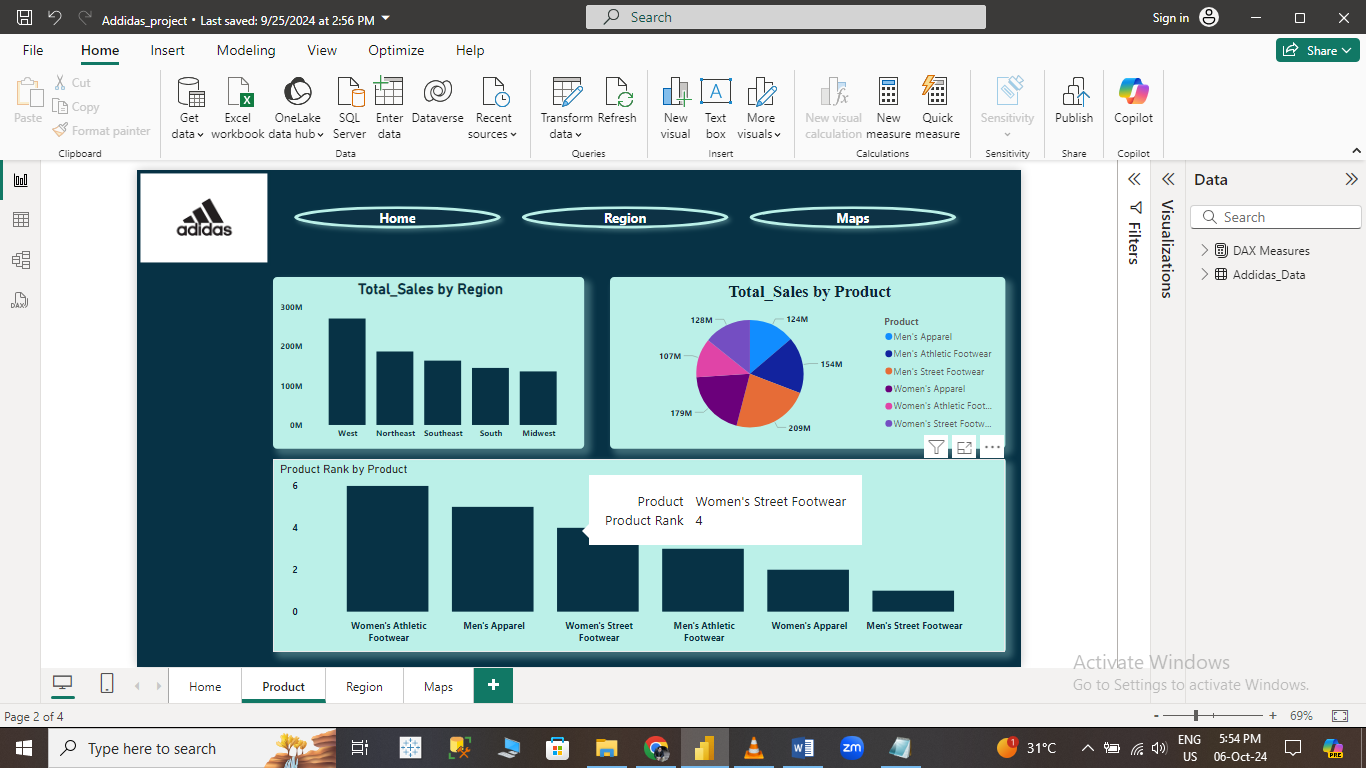

This screenshot's page, from the dashboard's own definition file:
{"tool":"powerbi","page":{"name":"Product","canvas":[1280,720],"ordinal":1},"visuals":[{"type":"image","box":[0,0,194.2,138.9],"z":0},{"type":"clusteredColumnChart","fields":{"Y":["DAX Measures.Total_Sales"],"Category":["Addidas_Data.Region"]},"box":[197,154.5,450.7,249.4],"z":1000},{"type":"pieChart","fields":{"Y":["DAX Measures.Total_Sales"],"Series":["Addidas_Data.Product"]},"box":[686,154.5,572.6,249.4],"z":2000},{"type":"pageNavigator","box":[216.9,42.5,980.8,53.9],"z":3000},{"type":"clusteredColumnChart","fields":{"Y":["DAX Measures.Product Rank"],"Category":["Addidas_Data.Product"]},"box":[197,419.5,1061.6,279.2],"z":4000}]}

Visuals, with their boxes on the page's 1280x720 design canvas (x1, y1, x2, y2). These are canvas units, not pixel positions in the 1366x768 screenshot, which may show the page scaled, cropped or inside an application window:
image: x1=0 y1=0 x2=194 y2=139
clusteredColumnChart - DAX Measures.Total_Sales x Addidas_Data.Region: x1=197 y1=154 x2=648 y2=404
pieChart - DAX Measures.Total_Sales x Addidas_Data.Product: x1=686 y1=154 x2=1259 y2=404
pageNavigator: x1=217 y1=42 x2=1198 y2=96
clusteredColumnChart - DAX Measures.Product Rank x Addidas_Data.Product: x1=197 y1=420 x2=1259 y2=699
